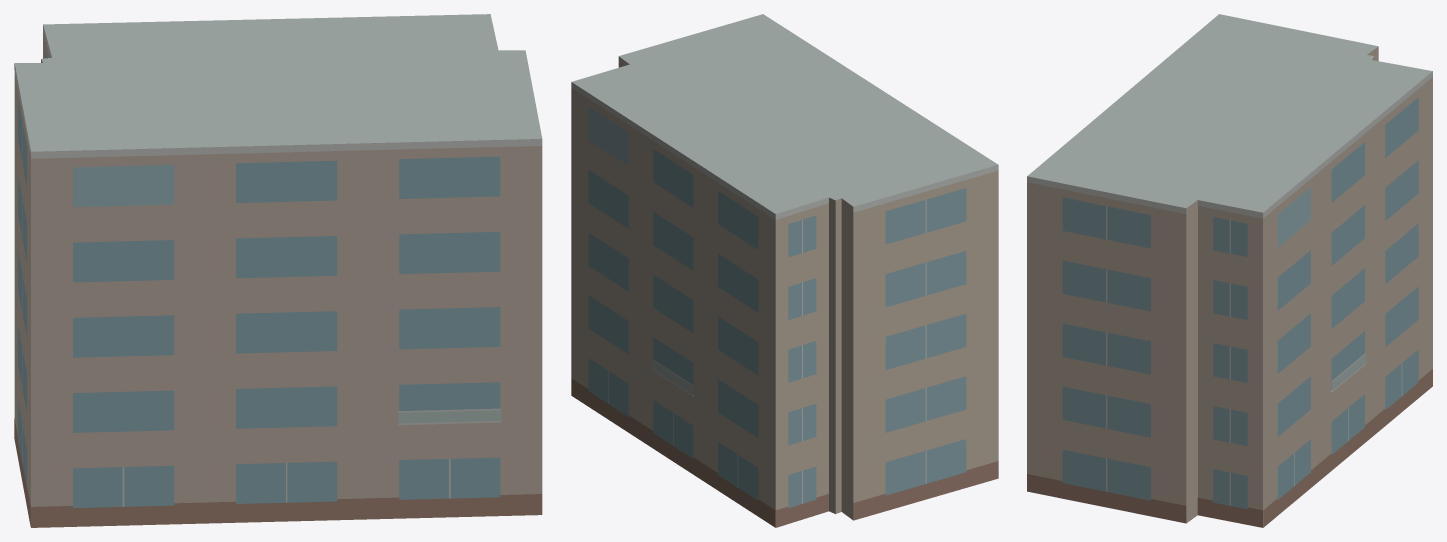
The model's file is survey-upis-32881856.glb.
3 views of the same model, side by side, from view 1: azimuth 30°, elevation 25°; view 2: azimuth 150°, elevation 25°; view 3: azimuth 270°, elevation 25° (orthographic). The views are drawn at different scales.
Visible parts, largest first — view 1: survey-upis-32881856.tmp; view 2: survey-upis-32881856.tmp; view 3: survey-upis-32881856.tmp.
Boxes of the visible parts, x1,y1,x2,y2 form: survey-upis-32881856.tmp: (14,14,542,527); survey-upis-32881856.tmp: (571,14,998,527); survey-upis-32881856.tmp: (1027,14,1432,527).
Bounding box in the file's own units: 17.72 × 13.1 × 15.29.
